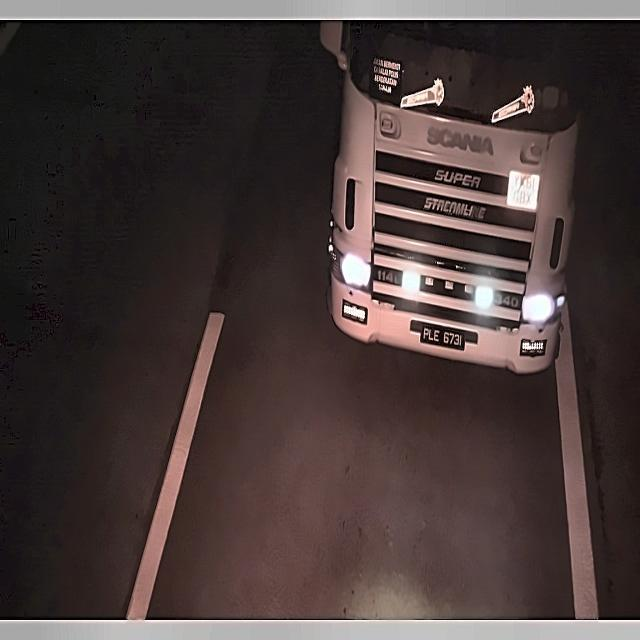car: (414, 315, 474, 361)
